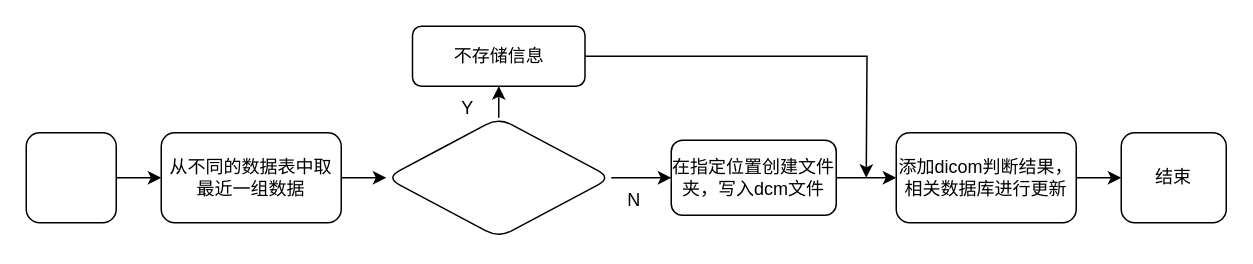
This 1253x264 diagram has some shape labels left out. The box of each missing label's shape, as (x1, y1, x2, y2) in pixels:
开始: (25, 131, 116, 223)
文件名中是否有img2pdf: (385, 116, 611, 238)
